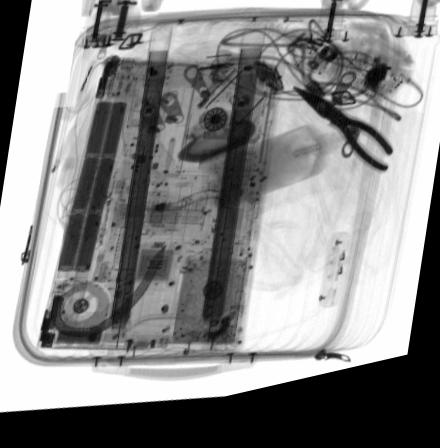Pliers: (291, 99, 394, 189)
